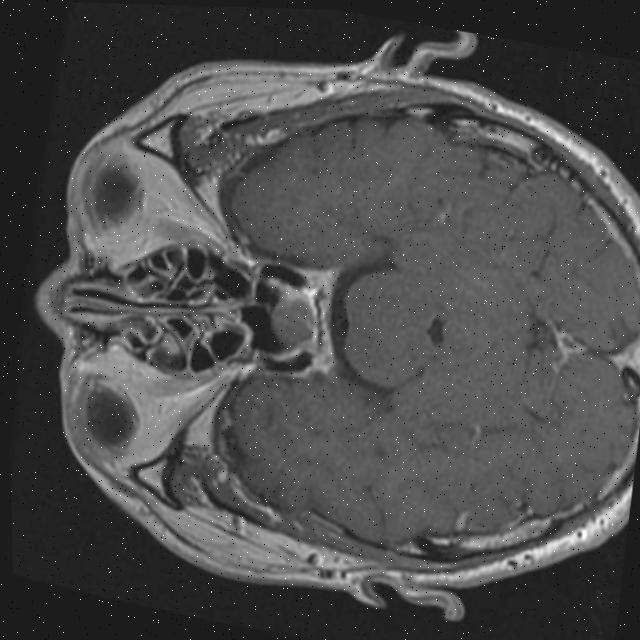Pituitary: (266, 288, 318, 349)
